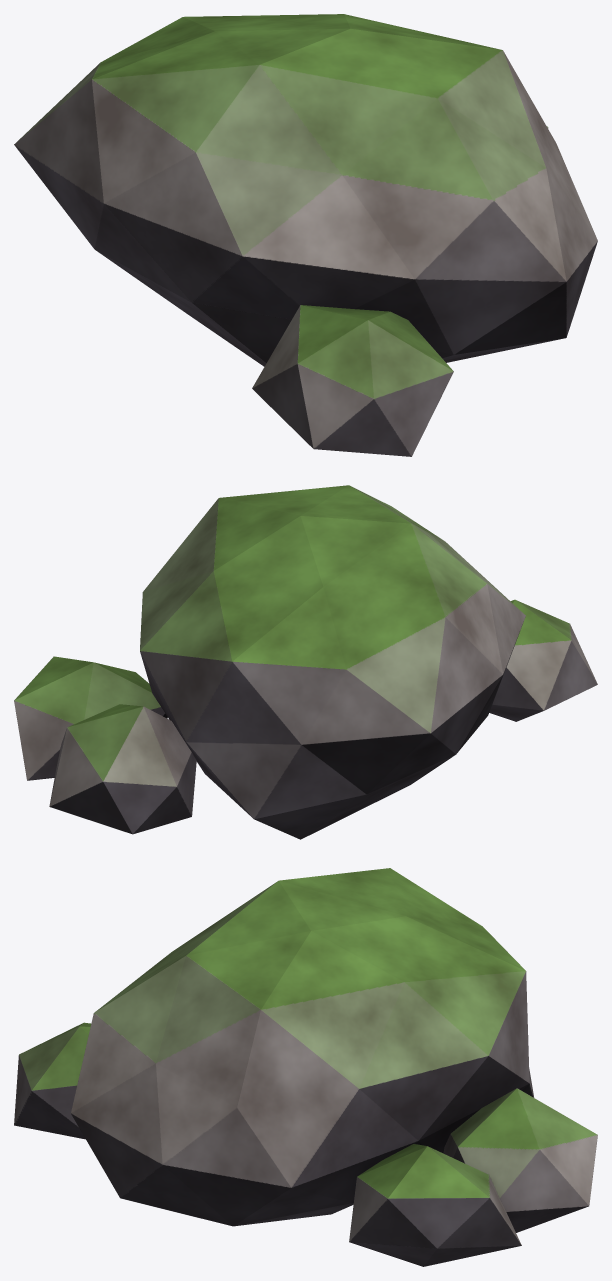
Rendered from Env_Boulder_1.glb.
3 views of the same model, one above another, from view 1: azimuth 30°, elevation 25°; view 2: azimuth 150°, elevation 25°; view 3: azimuth 270°, elevation 25° (orthographic). The views are drawn at different scales.
Visible parts, largest first — view 1: Env_Boulder_1.001; view 2: Env_Boulder_1.001; view 3: Env_Boulder_1.001.
Part boxes in pixels (bbox=[...]): Env_Boulder_1.001: bbox=[14, 14, 597, 456]; Env_Boulder_1.001: bbox=[14, 485, 597, 839]; Env_Boulder_1.001: bbox=[14, 868, 597, 1266].
Bounding box in the file's own units: 4.18 × 2.57 × 5.
Materials: 1 (1 with a texture image).
